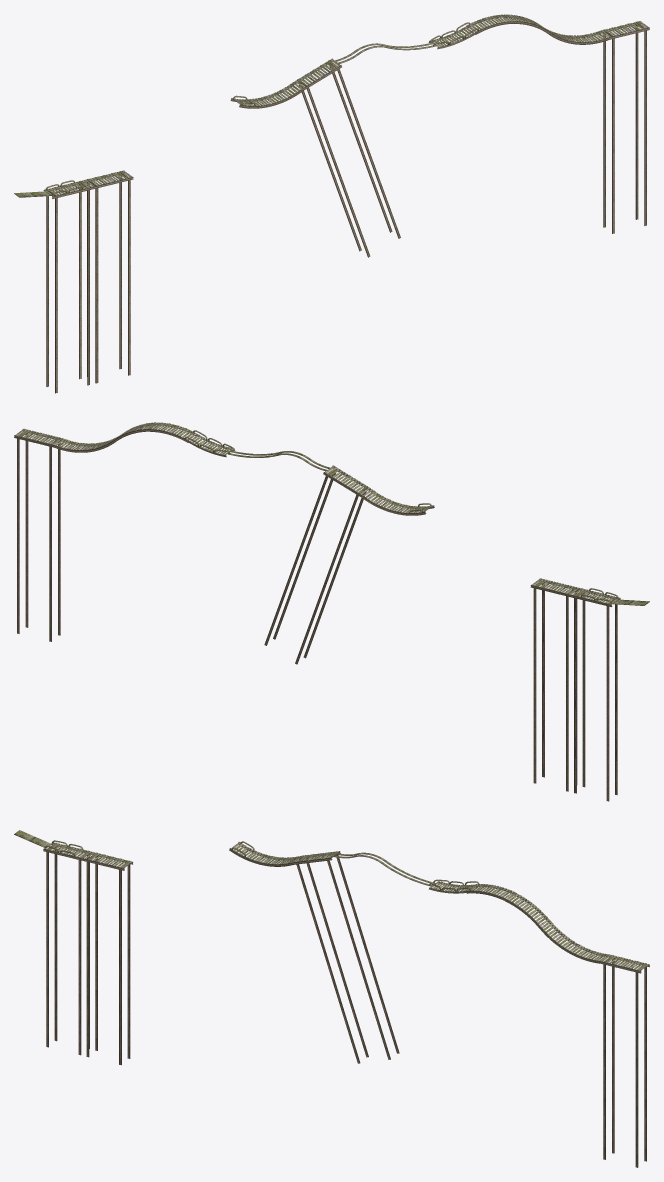
The picture shows the model from 3 angles, top to bottom: view 1: azimuth 30°, elevation 25°; view 2: azimuth 150°, elevation 25°; view 3: azimuth 330°, elevation 25°; orthographic projection.
Visible parts, largest first — view 1: Ramp_001__1_, Ramp_001__4_, Ramp_001__2_, Ramp_001__3_, Ramp_037__1_, Ramp_037; view 2: Ramp_001__2_, Ramp_001__1_, Ramp_001__4_, Ramp_001__3_, Ramp_037__1_, Ramp_037; view 3: Ramp_001__3_, Ramp_001__4_, Ramp_001__1_, Ramp_001__2_, Ramp_037, Ramp_037__1_, Ramp_038, ramp.
Part boxes in pixels (<box>): Ramp_001__1_: <box>600,21,649,233</box>; Ramp_001__4_: <box>294,58,400,257</box>; Ramp_001__2_: <box>43,180,92,393</box>; Ramp_001__3_: <box>84,170,133,383</box>; Ramp_037__1_: <box>230,82,303,108</box>; Ramp_037: <box>543,27,609,44</box>; Ramp_001__2_: <box>571,588,620,801</box>; Ramp_001__1_: <box>14,428,63,641</box>; Ramp_001__4_: <box>264,465,370,664</box>; Ramp_001__3_: <box>530,578,579,791</box>; Ramp_037__1_: <box>361,489,434,515</box>; Ramp_037: <box>54,435,119,452</box>; Ramp_001__3_: <box>84,852,133,1065</box>; Ramp_001__4_: <box>293,851,399,1063</box>; Ramp_001__1_: <box>600,954,649,1167</box>; Ramp_001__2_: <box>43,842,92,1055</box>; Ramp_037: <box>539,920,609,963</box>; Ramp_037__1_: <box>229,842,301,866</box>; Ramp_038: <box>505,892,549,928</box>; ramp: <box>333,852,435,886</box>.
Size of the model in its own units: 7757 by 3147 by 224.
